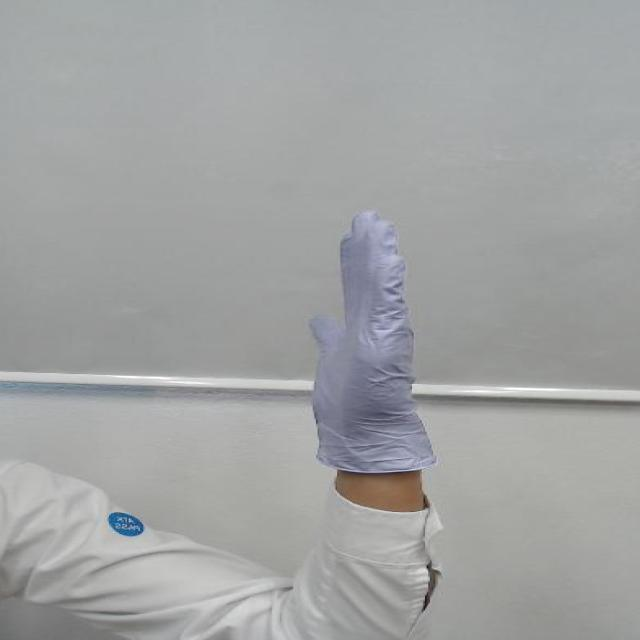glove: (273, 197, 437, 438)
